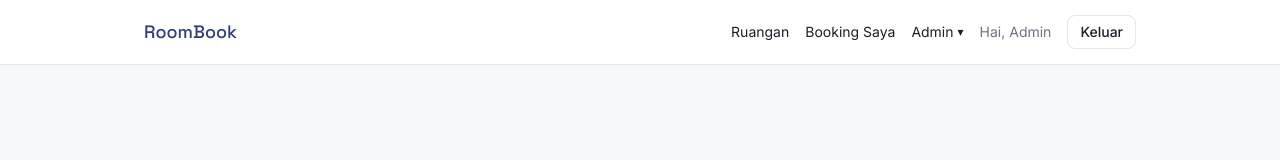
Test: Navbar › dropdown admin › menutup menu saat klik di luar dropdown
Click the button "Admin ▾" at [938, 32], box [911,22,964,42]
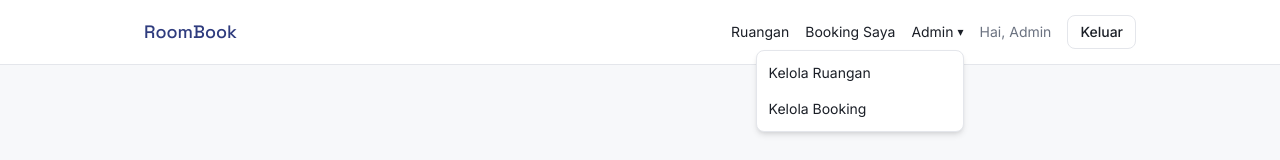
Expected: the menu item "Kelola Ruangan" is shown, [769,64,871,81]
Klik di elemen yang berada di luar container dropdown (di sini: brand "RoomBook").
Press the mouse on the link "RoomBook" at [190, 32], box [144,18,237,46]
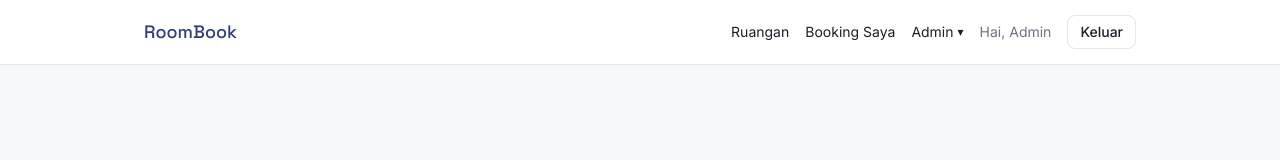
Expected: the menu item "Kelola Ruangan" is gone
